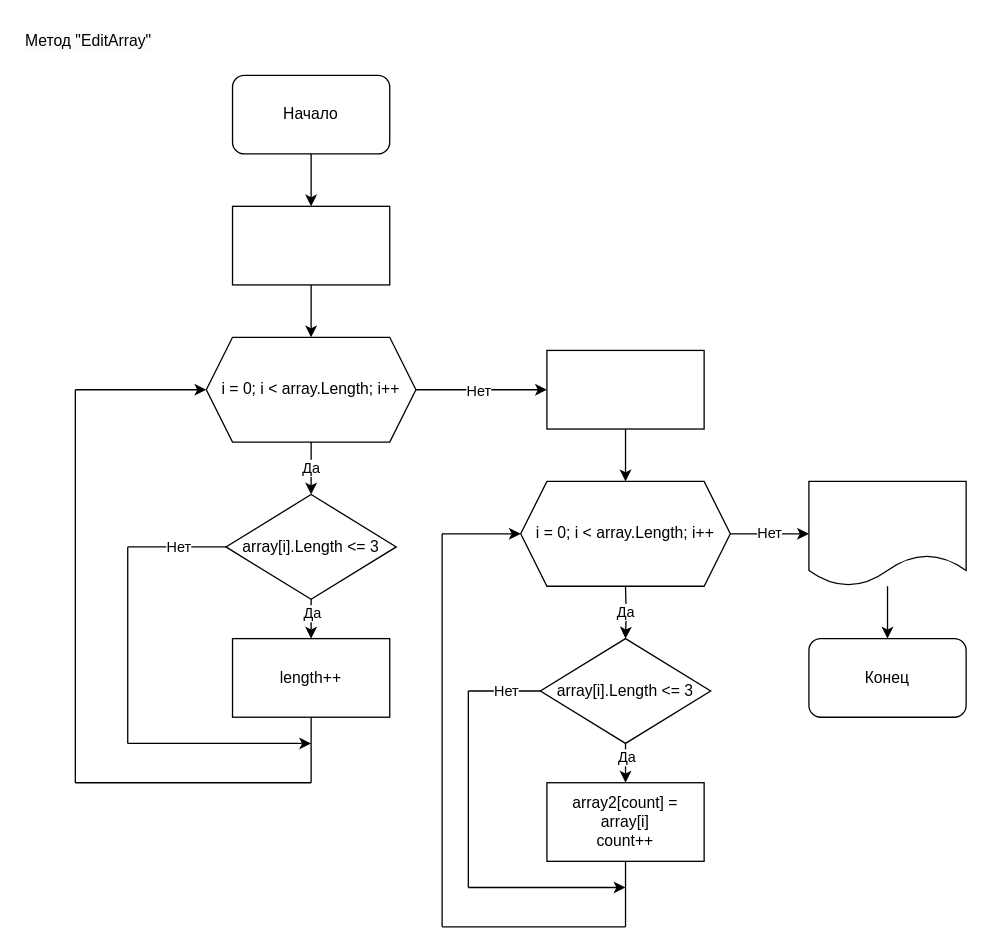
Image size: 989x951. Some labels were removed from this diagram. The centre of each missing label's shape, as x and y in pixels:
return array2: (x=887, y=533)
string[] array length = 0 count = 0: (x=310, y=245)
string[] array2 = new string[length]: (x=625, y=389)
